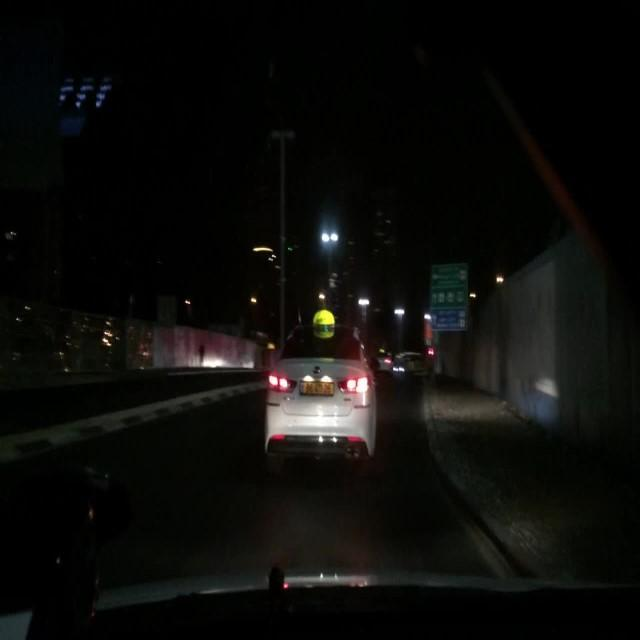normal: (265, 340, 377, 482)
